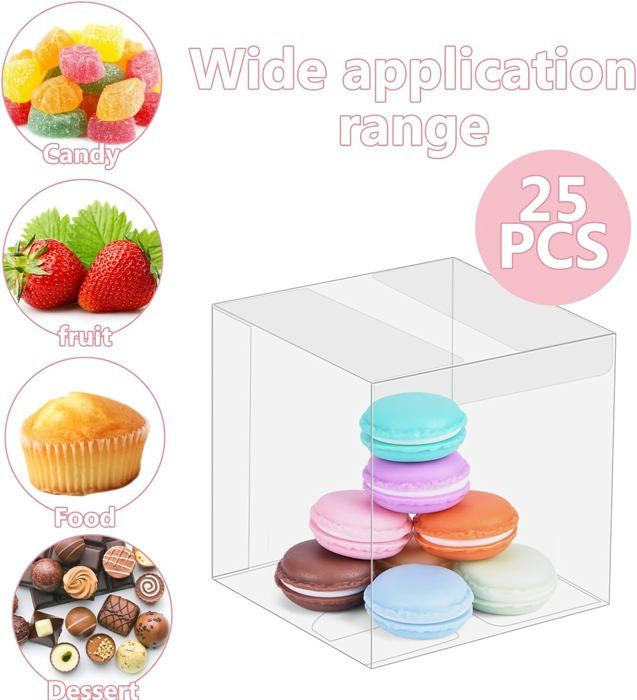Chaise: (244, 49, 445, 305)
